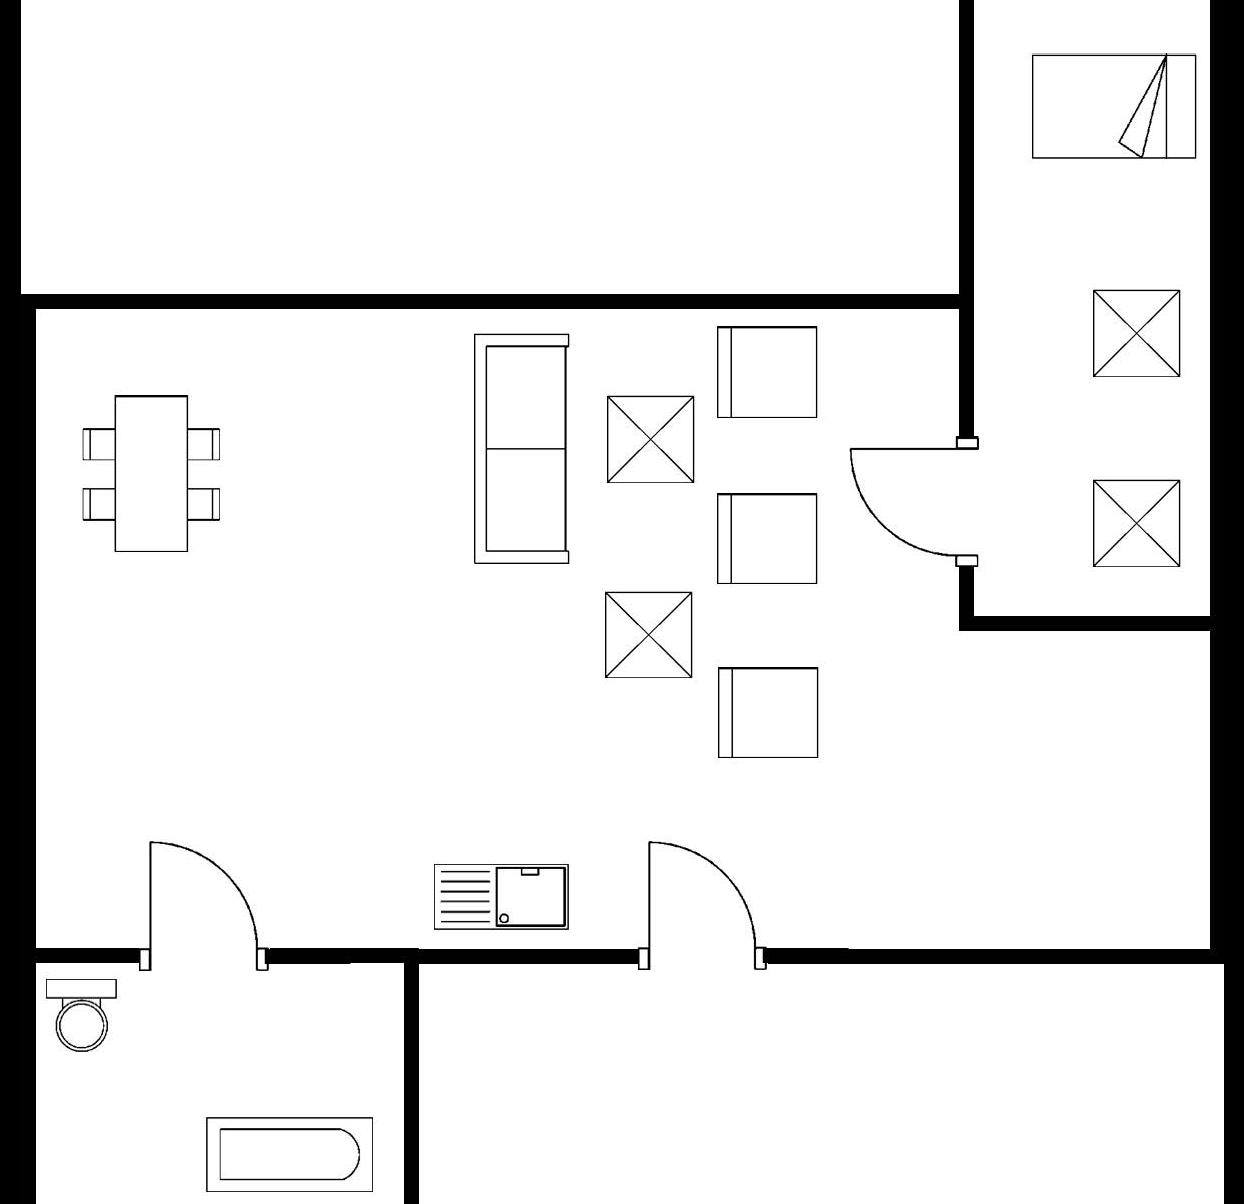bed: (1019, 44, 1205, 165)
dining_table: (77, 388, 231, 562)
sink: (425, 856, 576, 936)
sofa: (460, 324, 576, 571)
toilet: (40, 971, 126, 1057)
tub: (197, 1102, 384, 1200)
